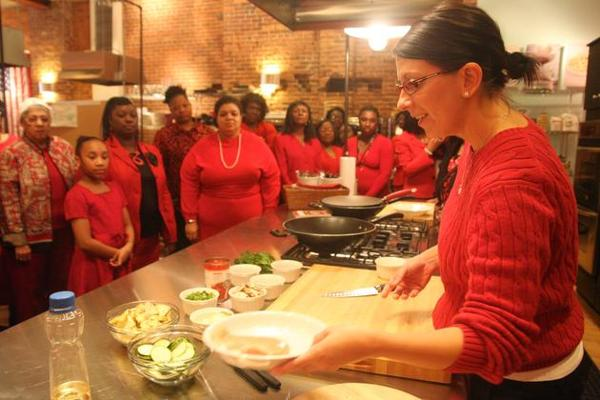person: (275, 5, 590, 399)
